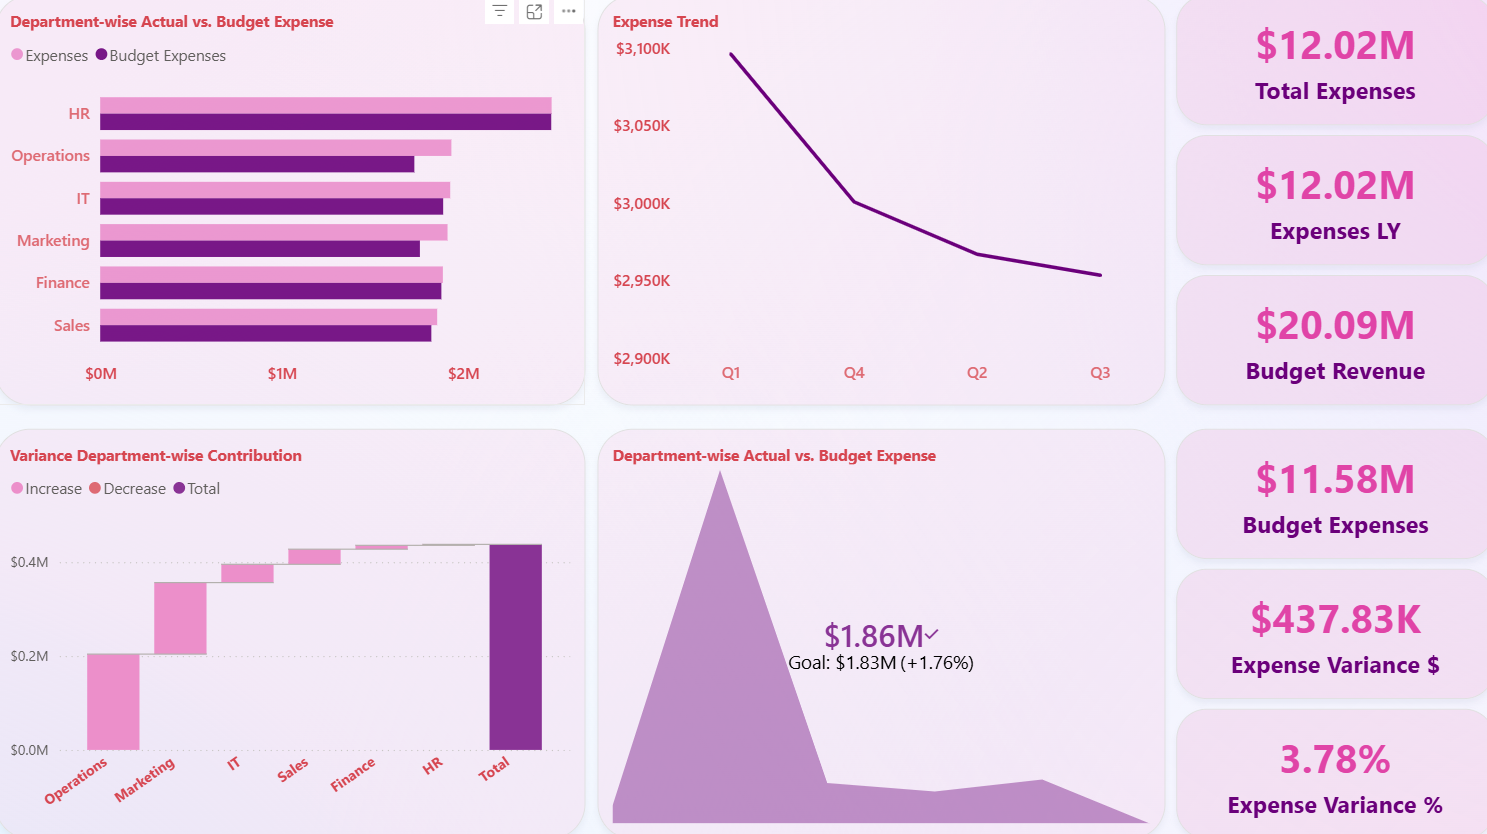

Layout of this report page (visuals, bound fields, positions):
{"tool":"powerbi","page":{"name":"Expense & Budget Tracking","canvas":[1280,720],"ordinal":2},"visuals":[{"type":"card","fields":{"Values":["_Measures.Total Expenses"]},"box":[1008.1,0,272.2,111.1],"z":0},{"type":"card","fields":{"Values":["_Measures.Budget Expenses"]},"box":[1008.1,369.8,272.2,111.1],"z":1000},{"type":"card","fields":{"Values":["_Measures.Expense Variance $"]},"box":[1008.1,489.4,272.2,111.1],"z":2000},{"type":"card","fields":{"Values":["_Measures.Expense Variance %"]},"box":[1008.1,609,272.2,111.1],"z":3000},{"type":"card","fields":{"Values":["_Measures.Budget Revenue"]},"box":[1008.1,239.2,272.2,111.1],"z":4000},{"type":"card","fields":{"Values":["_Measures.Expenses LY"]},"box":[1008.1,119.6,272.2,111.1],"z":5000},{"type":"clusteredBarChart","title":"Department-wise Actual vs. Budget Expense","fields":{"Category":["Dim_Department.DeptName"],"Y":["_Measures.Total Expenses","_Measures.Budget Expenses"]},"box":[0,0,504,350.3],"z":6000},{"type":"lineChart","title":"Expense Trend ","fields":{"Category":["Dim_Date.Quarter"],"Y":["_Measures.Total Expenses"]},"box":[513.8,0,484.5,350.3],"z":7000},{"type":"waterfallChart","title":"Variance Department-wise Contribution","fields":{"Y":["_Measures.Expense Variance $"],"Category":["Dim_Department.DeptName"]},"box":[0,369.8,504,350.3],"z":8000},{"type":"kpi","title":"Department-wise Actual vs. Budget Expense","fields":{"TrendLine":["Dim_Department.DeptName"],"Indicator":["_Measures.Total Expenses"],"Goal":["_Measures.Budget Expenses"]},"box":[513.8,369.8,484.5,350.3],"z":9000}]}

Visuals, with their boxes in screenshot pixels (x1, y1, x2, y2), scaled from the page's 1280x720 canvas onto the 1487x834 screenshot:
card - _Measures.Total Expenses: <region>1171, 0, 1486, 129</region>
card - _Measures.Budget Expenses: <region>1171, 428, 1486, 557</region>
card - _Measures.Expense Variance $: <region>1171, 567, 1486, 696</region>
card - _Measures.Expense Variance %: <region>1171, 705, 1486, 833</region>
card - _Measures.Budget Revenue: <region>1171, 277, 1486, 406</region>
card - _Measures.Expenses LY: <region>1171, 139, 1486, 267</region>
"Department-wise Actual vs. Budget Expense" clusteredBarChart: <region>0, 0, 586, 406</region>
"Expense Trend " lineChart: <region>597, 0, 1160, 406</region>
"Variance Department-wise Contribution" waterfallChart: <region>0, 428, 586, 833</region>
"Department-wise Actual vs. Budget Expense" kpi: <region>597, 428, 1160, 833</region>
